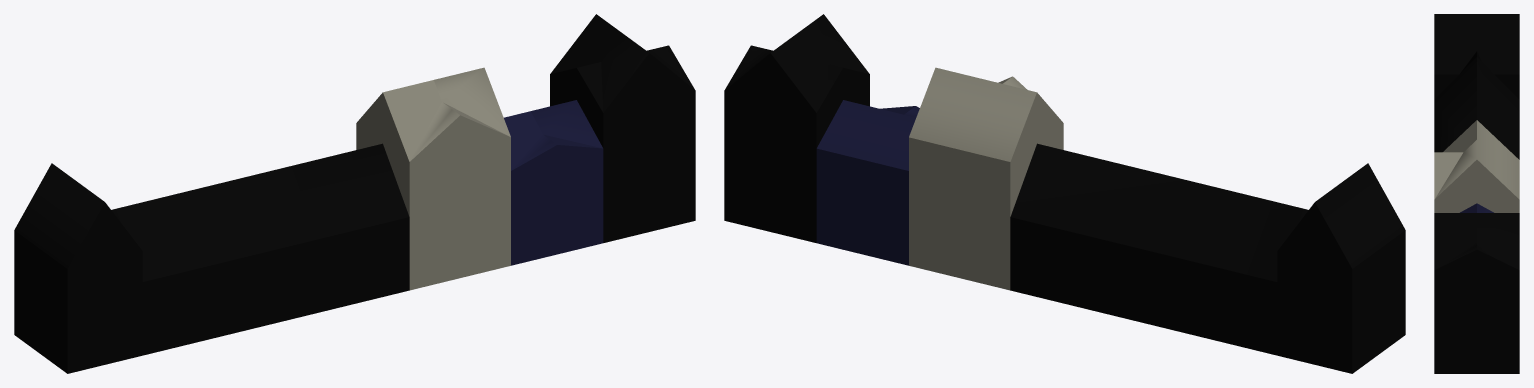
File: SoloBuildings.fbx
3 renders of one model, left to right at view 1: azimuth 30°, elevation 25°; view 2: azimuth 150°, elevation 25°; view 3: azimuth 270°, elevation 25°, orthographic. The views are drawn at different scales.
Parts seen in each view (by area): view 1: cosas05, Edificio_Principal, cosas04, cosas06, cosas03; view 2: cosas05, Edificio_Principal, cosas04, cosas06, cosas03; view 3: cosas04, Edificio_Principal, cosas06, cosas05, cosas03.
Boxes of the visible parts, bbox=[...] form: cosas05: bbox=[111, 143, 409, 355]; Edificio_Principal: bbox=[356, 67, 510, 290]; cosas04: bbox=[550, 14, 695, 242]; cosas06: bbox=[14, 163, 142, 373]; cosas03: bbox=[504, 100, 603, 265]; cosas05: bbox=[1010, 143, 1308, 355]; Edificio_Principal: bbox=[909, 67, 1063, 290]; cosas04: bbox=[724, 14, 869, 242]; cosas06: bbox=[1277, 163, 1405, 373]; cosas03: bbox=[816, 100, 919, 265]; cosas04: bbox=[1434, 213, 1519, 373]; Edificio_Principal: bbox=[1434, 120, 1519, 212]; cosas06: bbox=[1434, 14, 1519, 99]; cosas05: bbox=[1434, 51, 1519, 159]; cosas03: bbox=[1460, 203, 1493, 212].
Size of the model in its own units: 6806 by 1854 by 1000.
